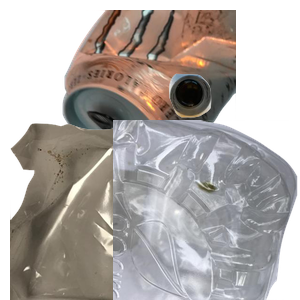glass: (166, 71, 300, 181)
metal: (60, 10, 300, 175)
plastic: (113, 120, 300, 300)
trash: (10, 120, 250, 300)
